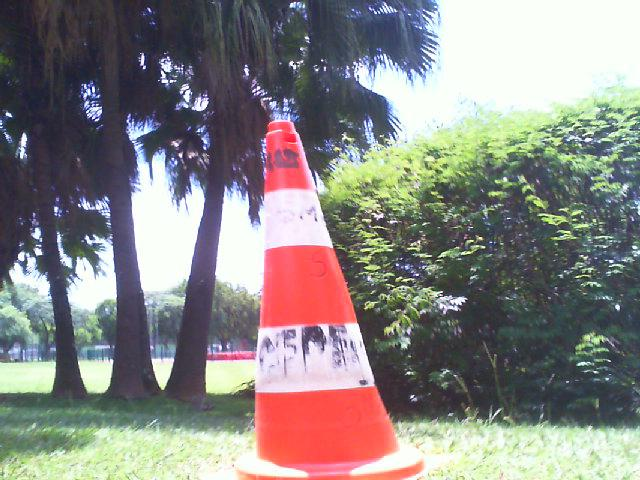0 cone: (236, 120, 427, 480)
